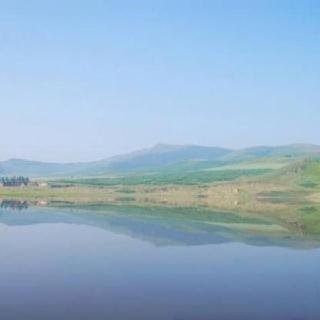Cirrostratus: (0, 0, 320, 127)
